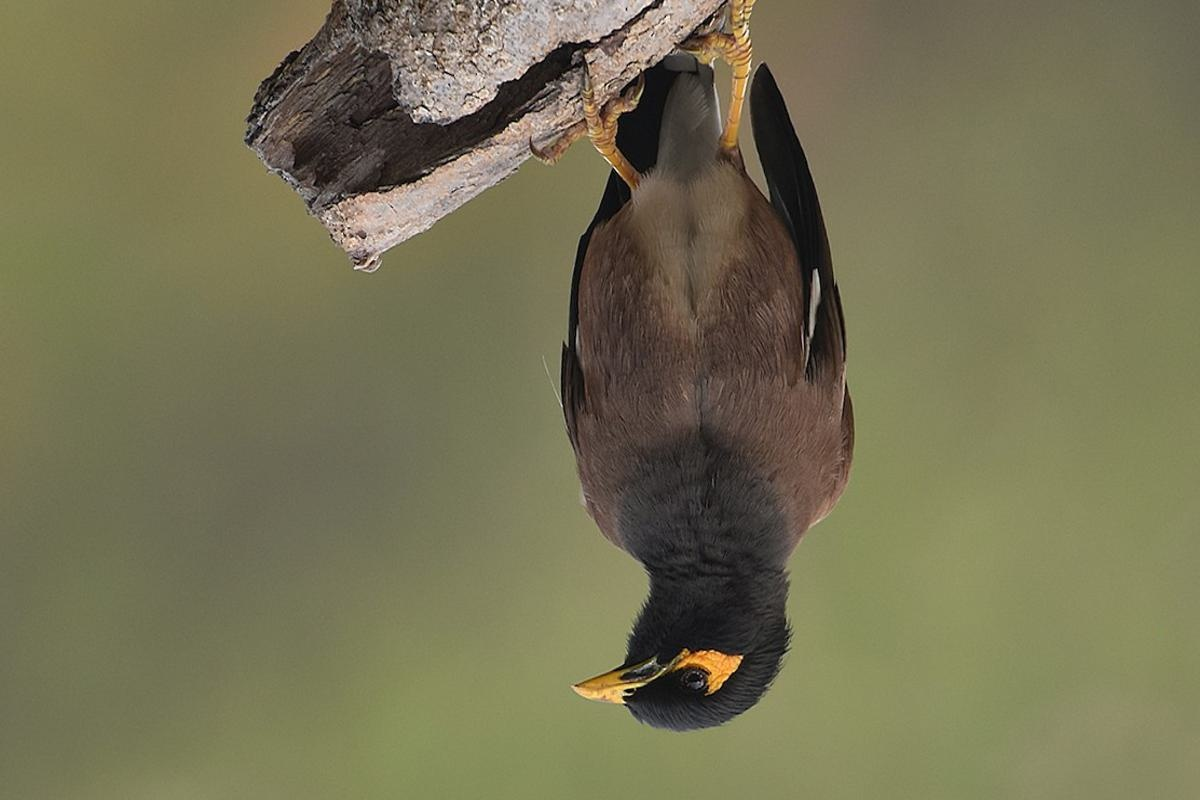myna: (553, 35, 794, 761)
